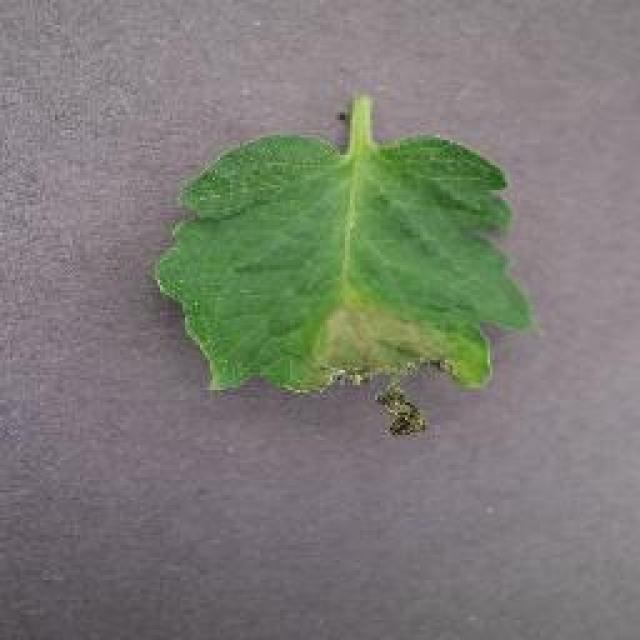Tomato Late Blight: (285, 282, 490, 403)
